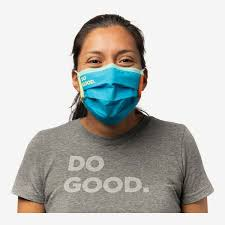mask: (64, 63, 152, 135)
social distancing: (43, 11, 179, 175)
